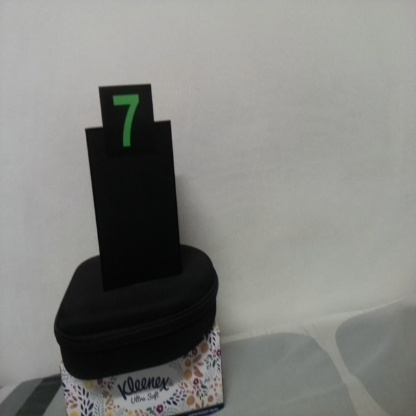id_7: (99, 87, 154, 169)
